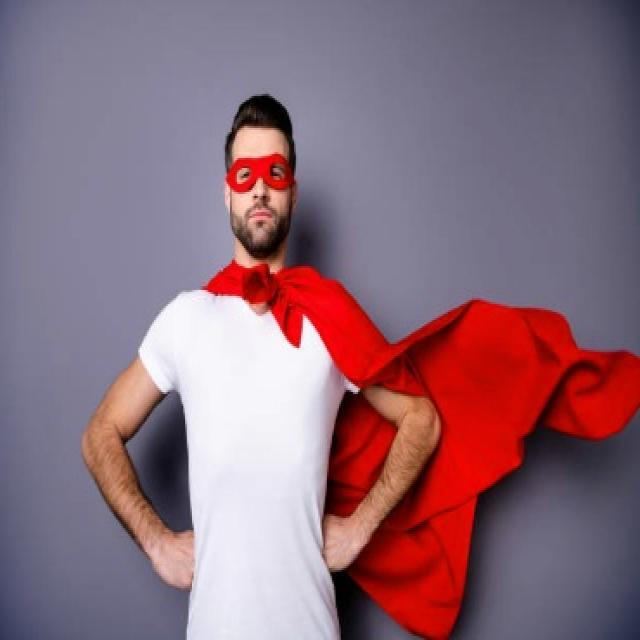adult: (96, 101, 445, 640)
